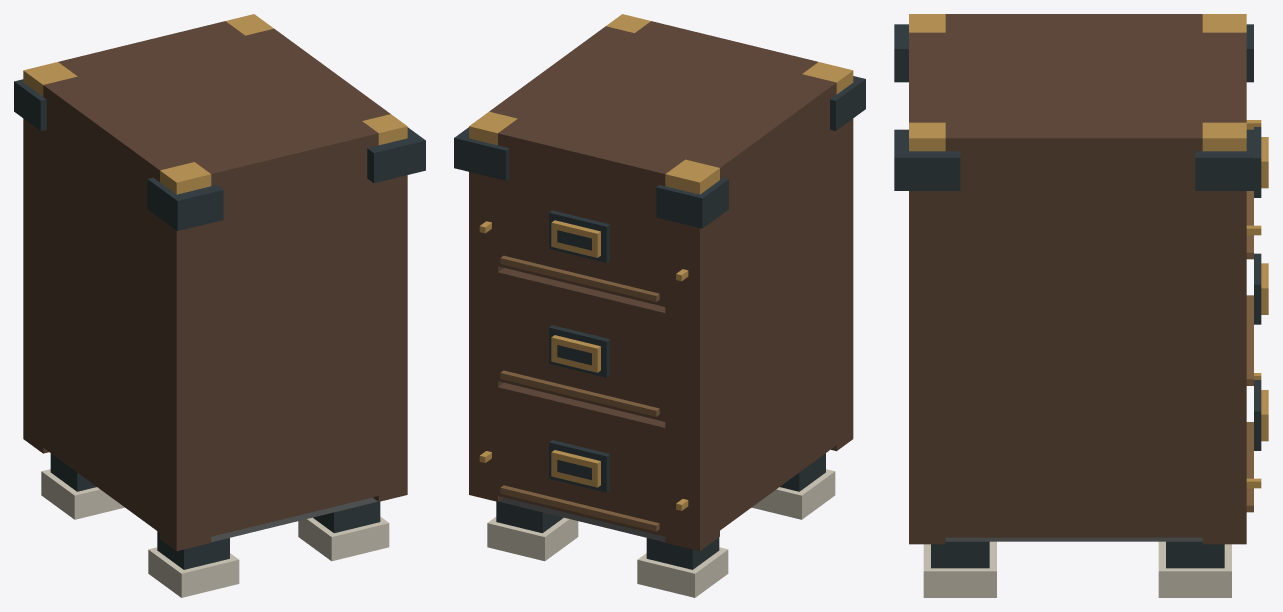
3 views of the same model, side by side, from view 1: azimuth 30°, elevation 25°; view 2: azimuth 150°, elevation 25°; view 3: azimuth 270°, elevation 25° (orthographic). The views are drawn at different scales.
Visible parts, largest first — view 1: 办公桌抽屉模块; view 2: 办公桌抽屉模块; view 3: 办公桌抽屉模块.
Boxes of the visible parts, box(x1,y1,x2,y2) form: 办公桌抽屉模块: box(14, 14, 425, 597); 办公桌抽屉模块: box(454, 14, 865, 597); 办公桌抽屉模块: box(894, 14, 1268, 597).
Size of the model in its own units: 0.43 by 0.7 by 0.51.
Materials: 6 (6 with a texture image).
